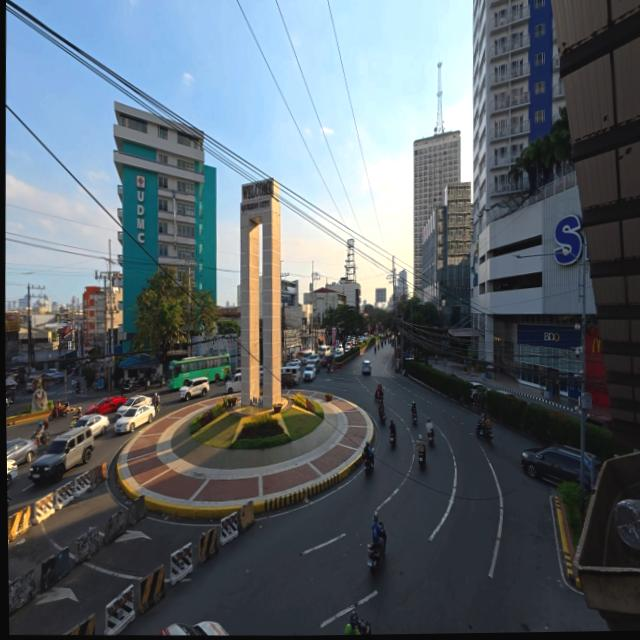bus: (168, 355, 231, 390)
car: (29, 428, 94, 483), (522, 445, 580, 483), (115, 405, 155, 432), (159, 621, 228, 635), (84, 394, 126, 416), (117, 395, 152, 418), (7, 439, 38, 464), (74, 415, 110, 436), (179, 377, 209, 400), (586, 415, 613, 430), (7, 460, 18, 487), (471, 382, 487, 397), (303, 364, 317, 381), (281, 373, 295, 388), (27, 376, 40, 392), (495, 389, 517, 398), (308, 358, 322, 372), (321, 354, 333, 367), (284, 358, 300, 367), (362, 360, 372, 374), (306, 353, 318, 364), (46, 369, 58, 377), (335, 348, 343, 358), (260, 366, 264, 383), (6, 398, 10, 409), (345, 346, 350, 353)
motorcycle: (350, 612, 371, 634), (367, 543, 383, 571), (475, 419, 492, 442), (49, 402, 69, 420), (31, 427, 49, 447), (134, 375, 150, 389), (417, 445, 426, 468), (151, 374, 166, 387), (364, 456, 373, 475), (122, 379, 134, 393), (426, 425, 434, 445), (379, 406, 386, 423), (94, 380, 105, 390), (379, 410, 386, 424), (153, 399, 160, 413), (390, 431, 396, 446), (375, 390, 383, 400), (75, 381, 81, 394), (412, 412, 417, 425), (7, 493, 10, 510), (327, 365, 332, 374), (374, 347, 376, 353)
vans: (282, 366, 300, 384), (225, 374, 241, 394), (298, 349, 313, 365), (318, 345, 330, 356)
